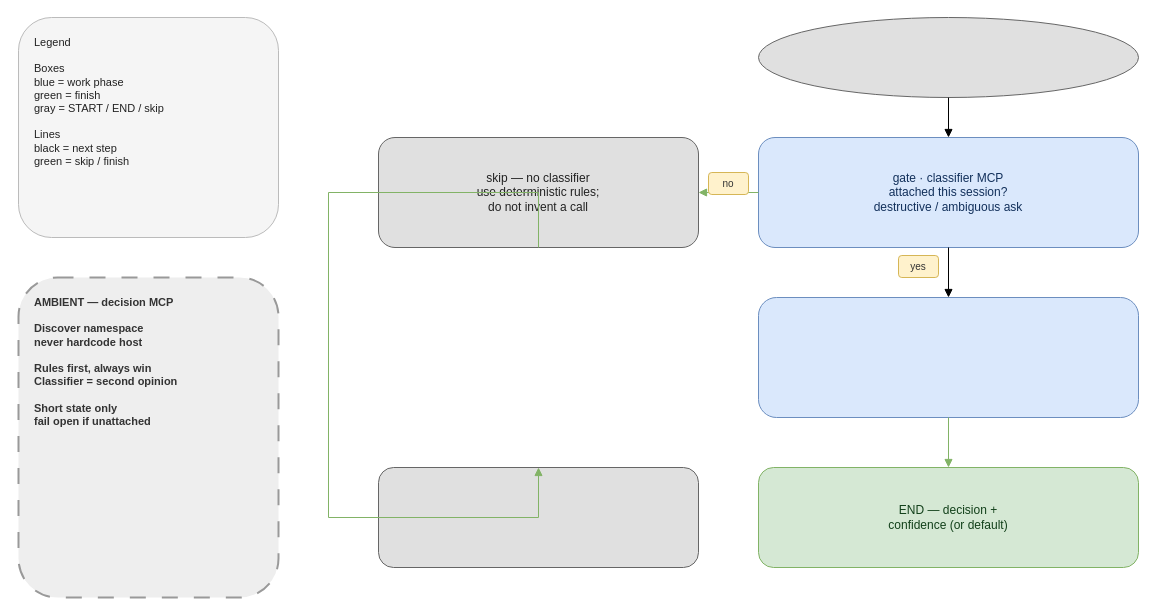
The diagram is 1156 pixels wide and 616 high, and some of its shapes have lost their labels. The shapes that lost their labels are listed below. From the top down, each one's centre as x and y in pixels, then its label:
[948,57]: START — user ask
[948,357]: rules → classifier hook gates shell; MCP for tier/scope/rerank
[538,517]: END — stay out
